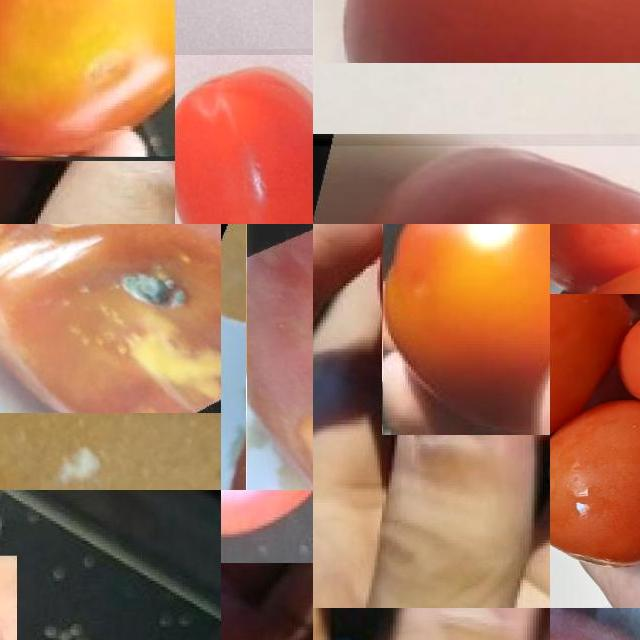Fresh Tomato: (313, 146, 640, 224), (346, 0, 640, 63), (221, 490, 313, 562)
Rotten Tomato: (0, 224, 221, 413), (246, 224, 313, 490)
